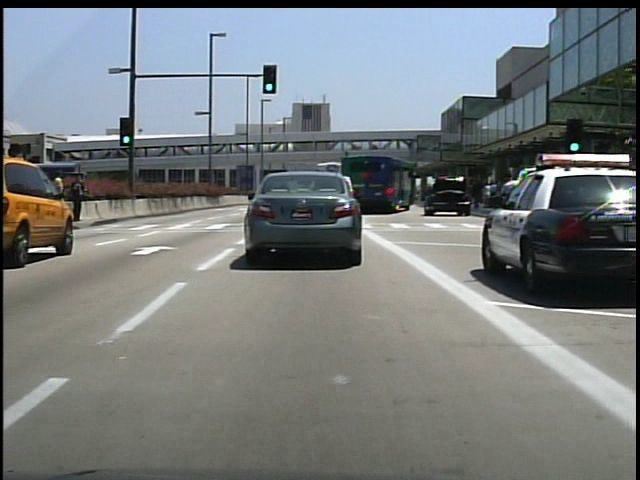person: (495, 164, 534, 260), (70, 173, 89, 224), (54, 169, 69, 222)
